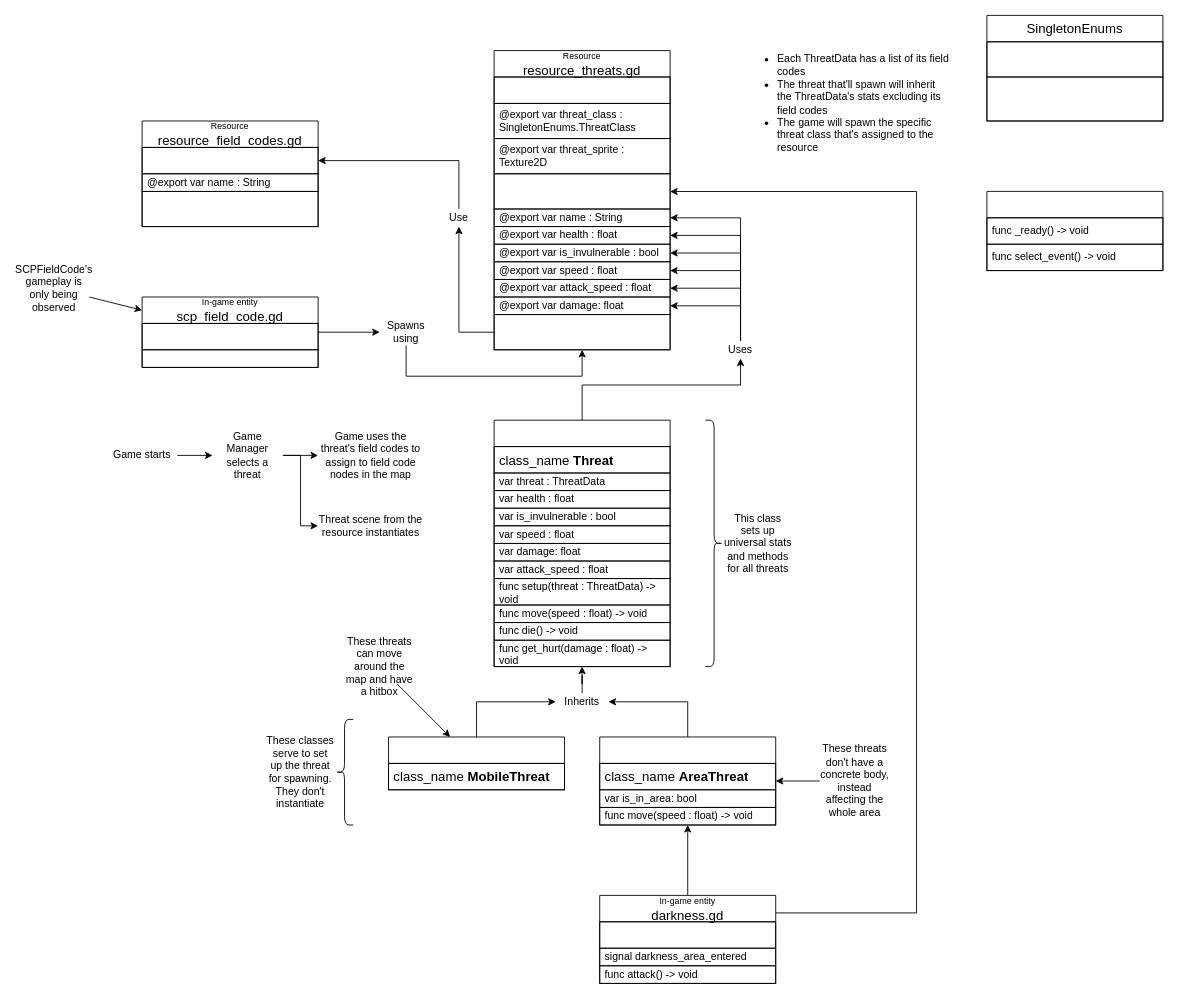
Image size: 1178x999. Some labels were removed from this diagram. The box of each missing label's shape, as (x1, y1, x2, y2) in pixels:
@export var field_code_icon : Texture2D: (141, 191, 318, 227)
@export var field_codes: Array[FieldCodeData]: (493, 314, 670, 350)
@export var threat_scene: PackedScene: (493, 173, 670, 209)
class_name Darkness: (599, 921, 776, 948)
class_name FieldCodeData: (141, 147, 318, 174)
class_name SCPFieldCode: (141, 323, 318, 350)
class_name ThreatData: (493, 76, 670, 103)
Entity threat.gd: (493, 419, 670, 667)
enum AreaType {SMALL_ROOM, LARGE_ROOM, OUTSIDE}: (986, 41, 1163, 77)
enum ThreatClass {MOBILE_THREAT, AREA_THREAT}: (986, 76, 1163, 121)
Game Manager: (986, 191, 1163, 271)
In-game entity area_threat.gd: (599, 736, 776, 825)
In-game entity mobile_threat.gd: (388, 736, 565, 790)
var field_code : FieldCodeData: (141, 349, 318, 367)
